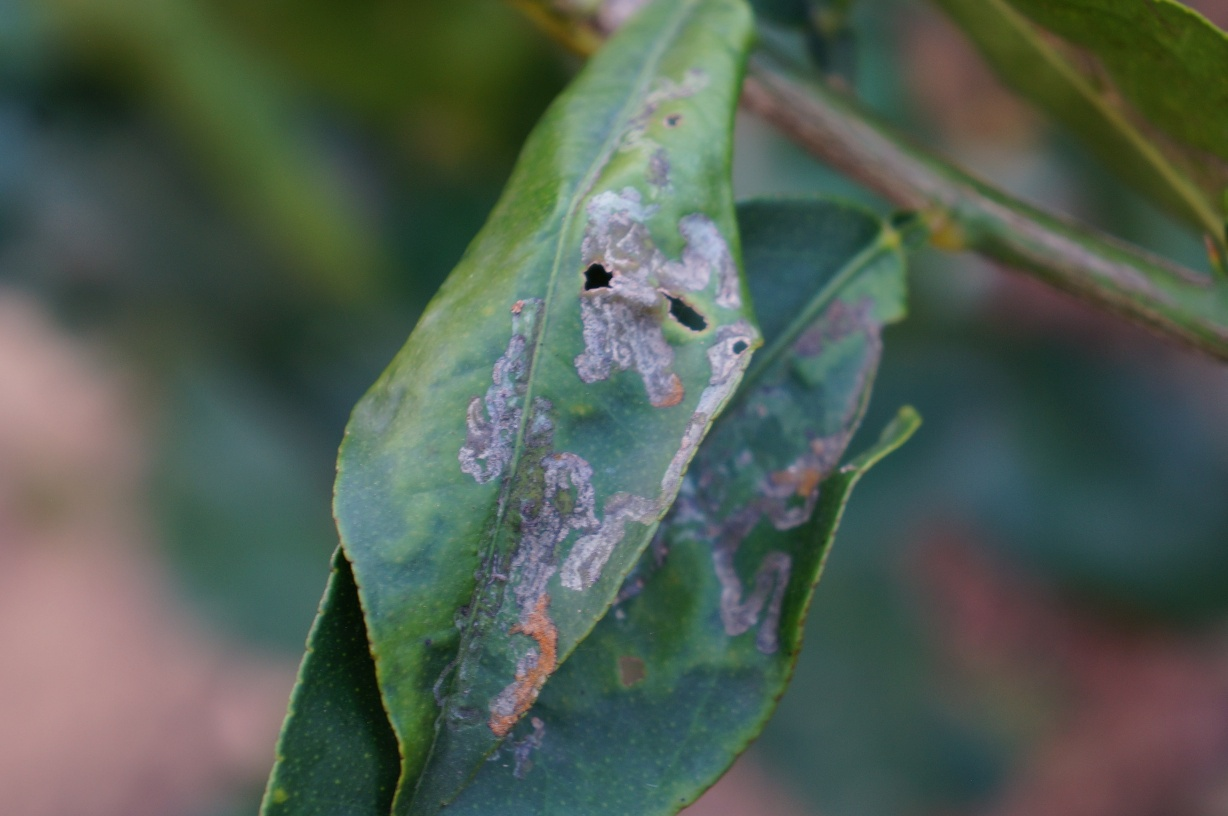damage: (434, 296, 655, 760), (672, 292, 907, 687), (561, 62, 771, 437)
